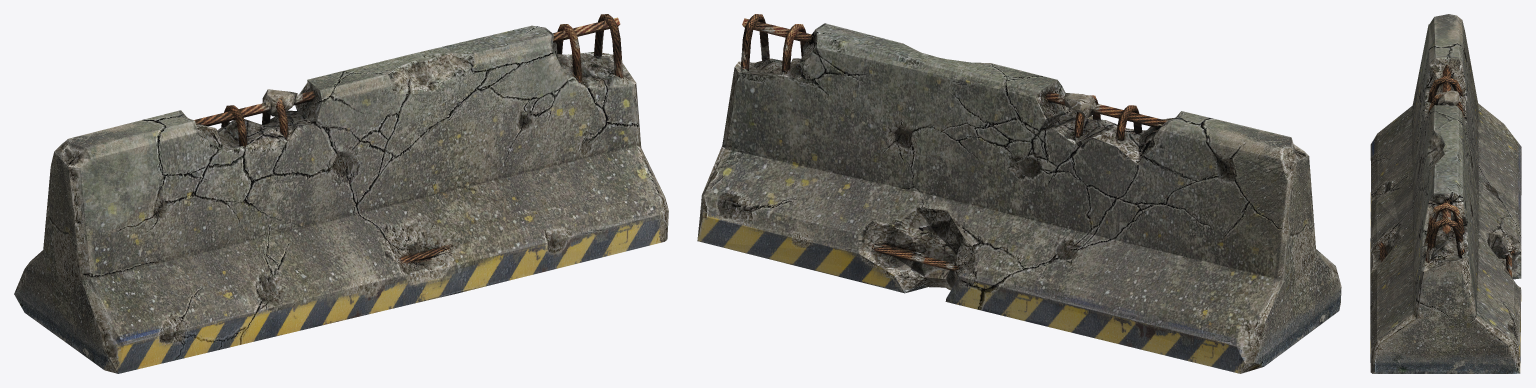
Rendered from concrete_roadblock.dae.
The picture shows the model from 3 angles, left to right: view 1: azimuth 30°, elevation 25°; view 2: azimuth 150°, elevation 25°; view 3: azimuth 270°, elevation 25°; orthographic projection. The views are drawn at different scales.
Visible parts, largest first — view 1: node; view 2: node; view 3: node.
Boxes of the visible parts, x1,y1,x2,y2 form: node: [14, 14, 668, 373]; node: [697, 14, 1341, 373]; node: [1370, 14, 1521, 373].
Bounding box in the file's own units: 7.72 × 2.6 × 2.32.
Materials: 1 (1 with a texture image).
